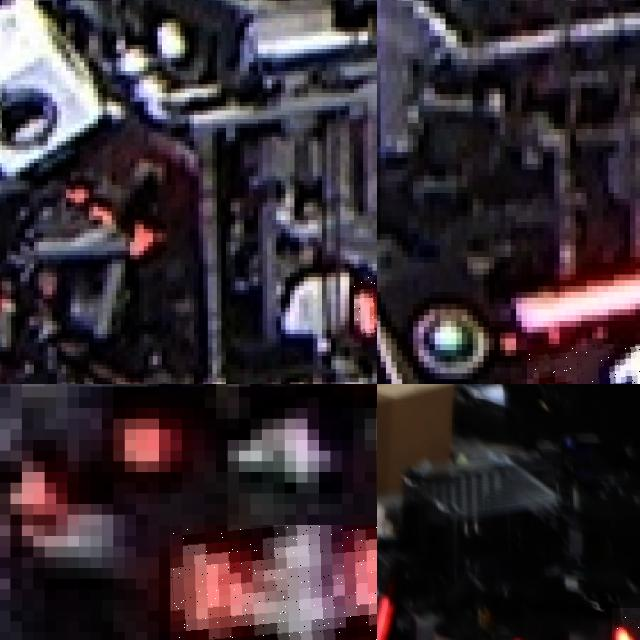R2: (354, 263, 377, 347)
R4: (170, 525, 377, 640)
Rs: (377, 554, 393, 640)
